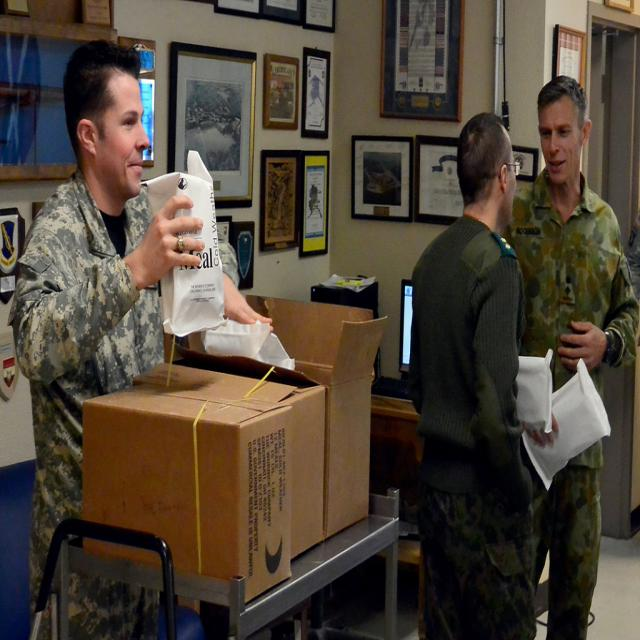Box: (163, 296, 387, 540), (84, 385, 291, 613), (132, 346, 324, 559)
